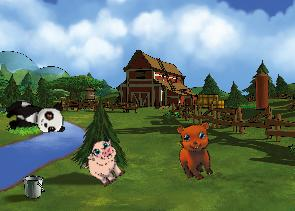bear: (168, 116, 227, 184)
panda: (4, 100, 65, 134)
pig: (77, 135, 132, 191)
